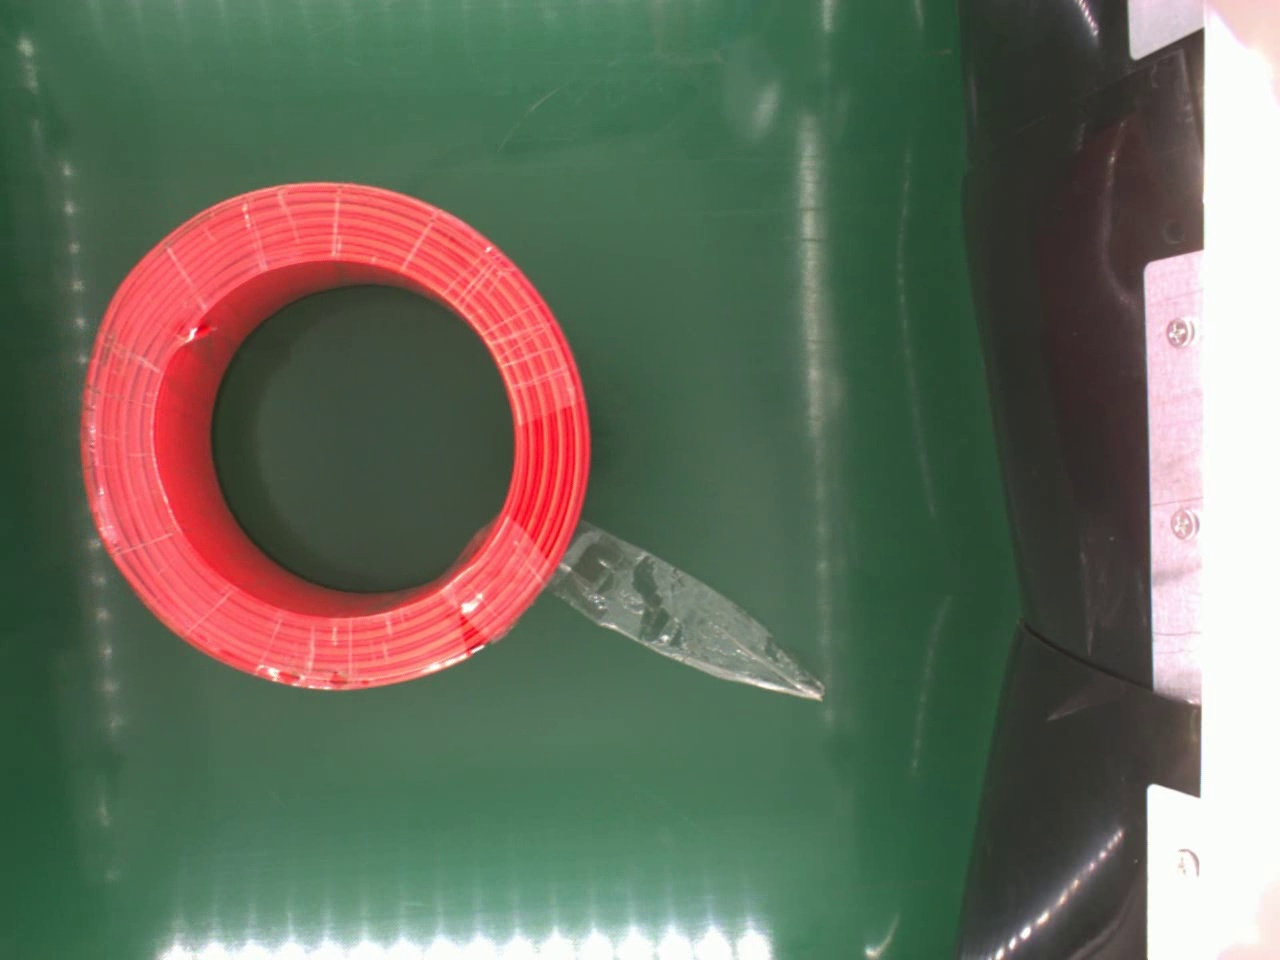red: (76, 177, 591, 694)
